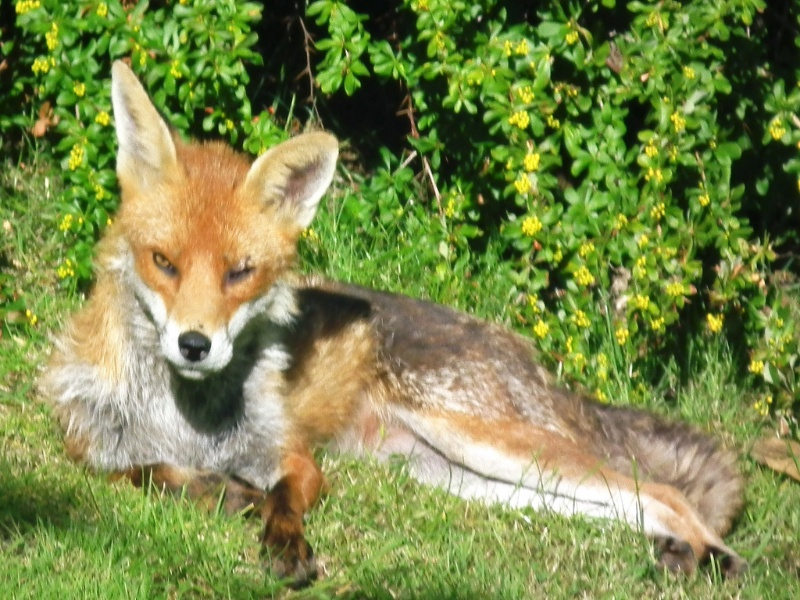fox: (36, 54, 751, 590)
